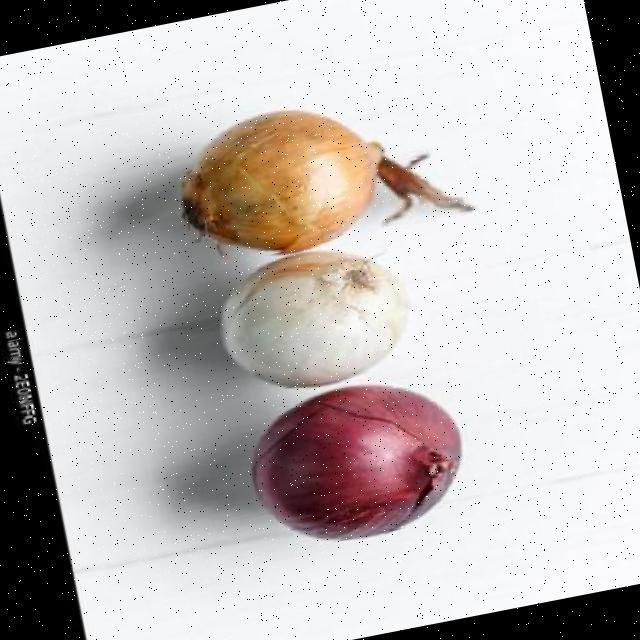Onion: (252, 387, 461, 541), (180, 111, 383, 254), (219, 252, 407, 389)
